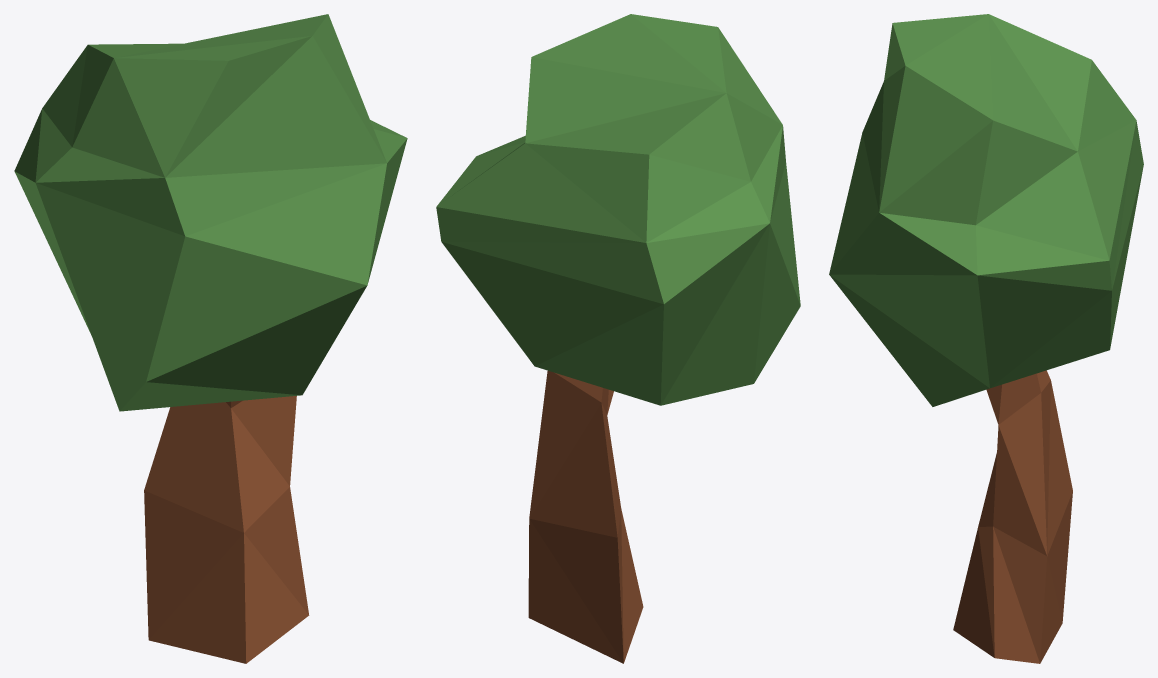
Rendered from ugly_tree.glb.
3 views of the same model, side by side, from view 1: azimuth 30°, elevation 25°; view 2: azimuth 150°, elevation 25°; view 3: azimuth 270°, elevation 25° (orthographic). The views are drawn at different scales.
Parts seen in each view (by area): view 1: Cube; view 2: Cube; view 3: Cube.
Part boxes in pixels (box(x1,y1,x2,y2)): Cube: box(14, 14, 407, 663); Cube: box(436, 14, 800, 663); Cube: box(829, 14, 1143, 663).
Size of the model in its own units: 4.75 by 8.41 by 4.04.
